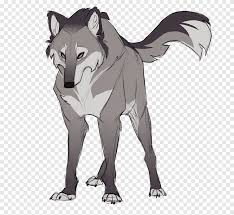Lobo: (22, 5, 218, 206)
